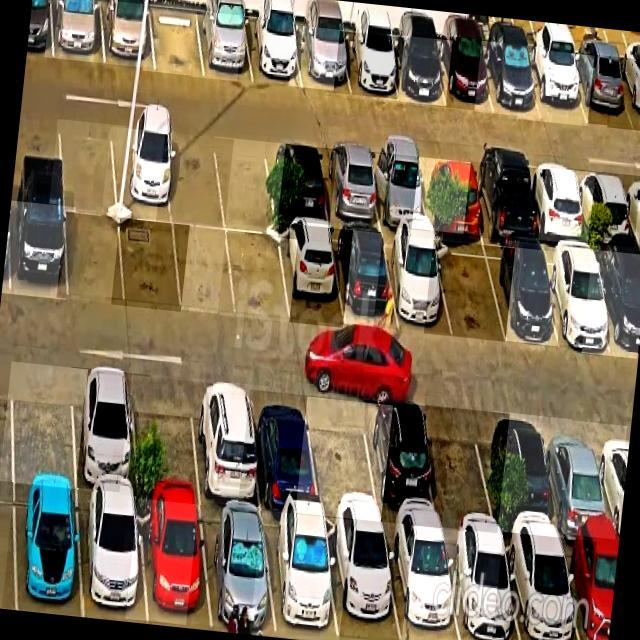empty: (425, 406, 497, 533), (307, 397, 380, 521), (132, 375, 201, 502), (12, 363, 76, 486), (434, 241, 505, 341), (214, 138, 276, 235), (173, 225, 236, 315), (58, 119, 117, 214), (166, 132, 224, 228), (120, 219, 180, 311), (227, 232, 289, 321), (65, 212, 124, 303), (149, 5, 205, 77)
occupied: (199, 505, 275, 634), (363, 402, 441, 527), (262, 512, 338, 640), (137, 498, 211, 627), (325, 517, 400, 640), (79, 490, 147, 621), (544, 418, 615, 542), (383, 526, 460, 640), (15, 485, 81, 616), (192, 382, 260, 508), (250, 389, 319, 512), (444, 529, 520, 640), (72, 367, 137, 494), (494, 412, 560, 537), (503, 534, 579, 640), (540, 246, 613, 350), (485, 245, 557, 343), (383, 234, 451, 336), (332, 228, 399, 328), (279, 224, 343, 325), (110, 126, 172, 223), (561, 538, 619, 640), (10, 201, 66, 299), (471, 162, 537, 243), (592, 250, 640, 358), (567, 52, 634, 128), (419, 157, 483, 236), (266, 143, 329, 223), (319, 147, 381, 226), (368, 151, 430, 229), (524, 49, 587, 124), (527, 166, 587, 243), (575, 170, 634, 247), (481, 41, 540, 118), (436, 37, 493, 112), (244, 17, 302, 88), (197, 10, 253, 83), (387, 36, 445, 106), (340, 31, 398, 99), (100, 0, 155, 68), (295, 26, 349, 92), (51, 0, 104, 63), (614, 59, 640, 129)
